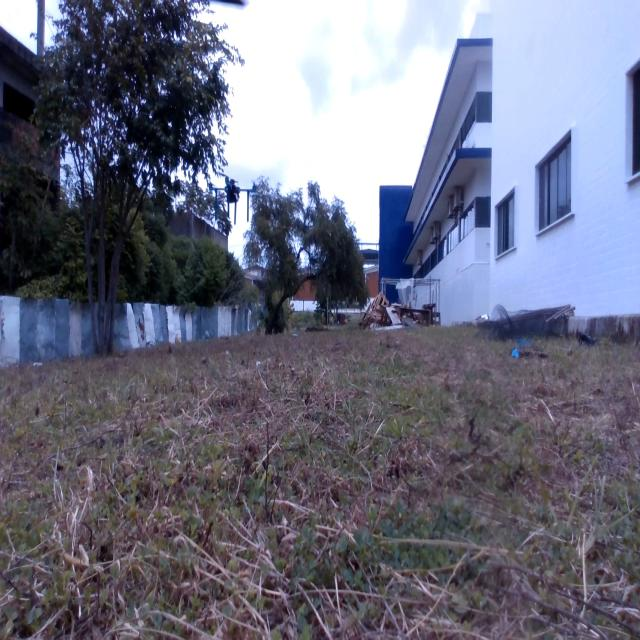-uav-: (198, 158, 268, 249)
